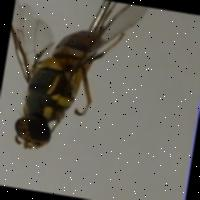Oriental-fruit-fly: (0, 0, 155, 182)
